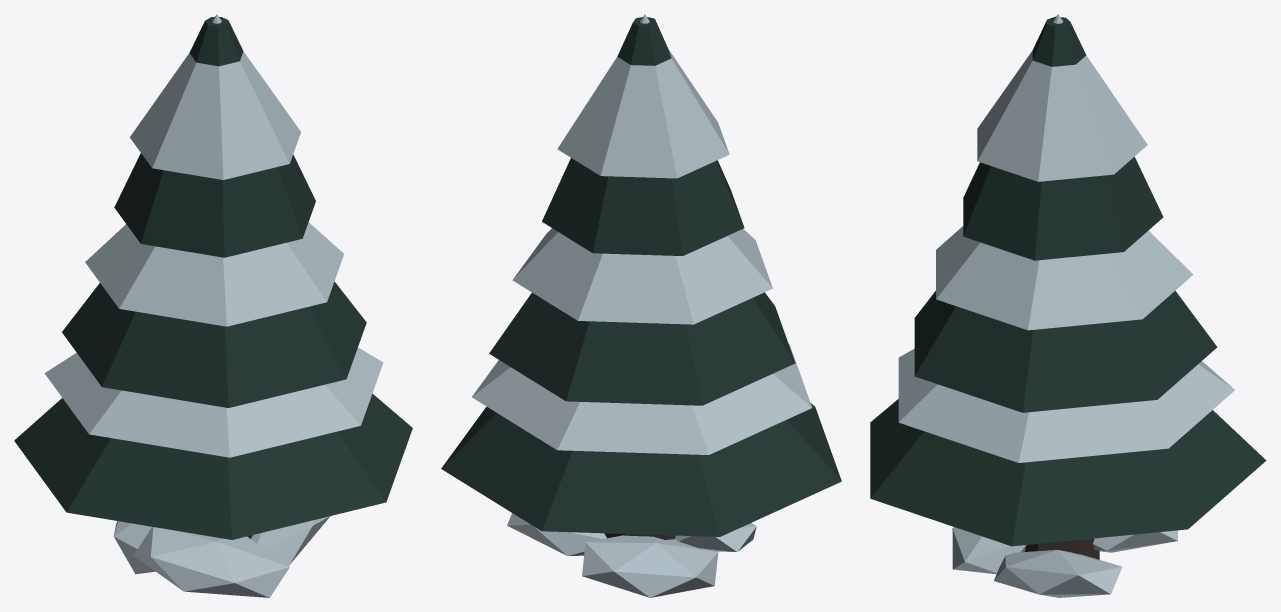
Rendered from Frosted_Pine.glb.
3 views of the same model, side by side, from view 1: azimuth 30°, elevation 25°; view 2: azimuth 150°, elevation 25°; view 3: azimuth 270°, elevation 25° (orthographic).
Parts seen in each view (by area): view 1: Frosted_Pine; view 2: Frosted_Pine; view 3: Frosted_Pine.
Part boxes in pixels (<box>): Frosted_Pine: <box>14,14,412,597</box>; Frosted_Pine: <box>441,14,841,597</box>; Frosted_Pine: <box>870,14,1266,597</box>.
Bounding box in the file's own units: 1.66 × 2.5 × 1.62.
